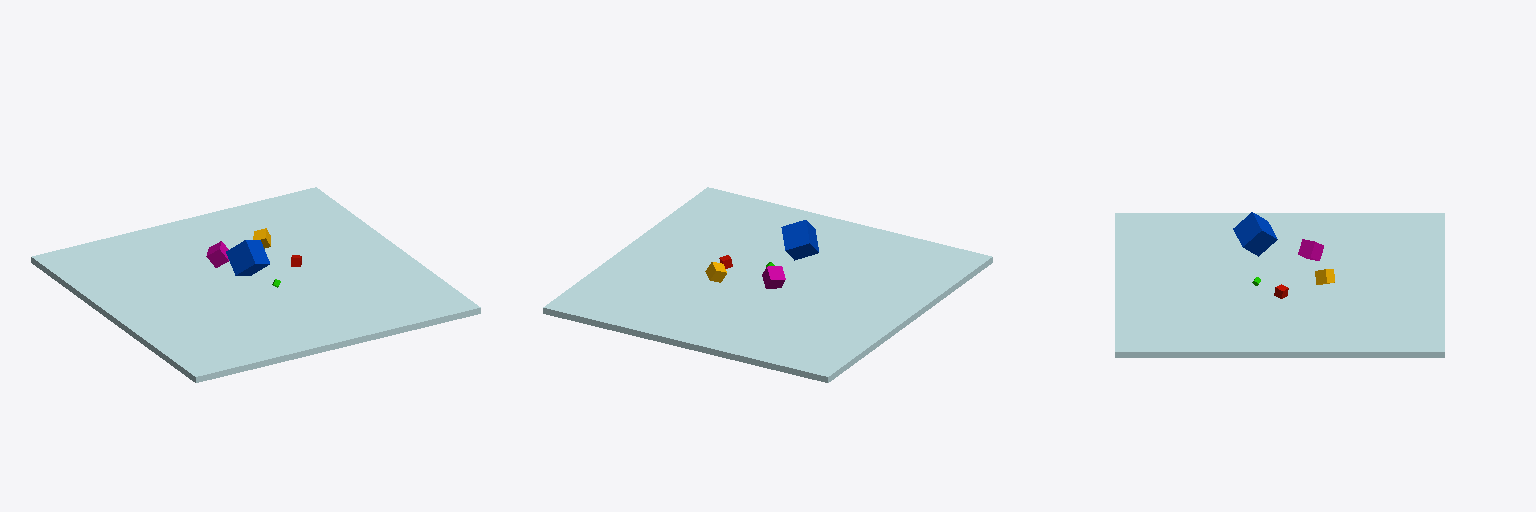
File: lights.obj
The picture shows the model from 3 angles: view 1: azimuth 30°, elevation 25°; view 2: azimuth 150°, elevation 25°; view 3: azimuth 270°, elevation 25°; orthographic projection.
Parts seen in each view (by area): view 1: Cube, Cube.001; view 2: Cube, Cube.001; view 3: Cube, Cube.001.
Part boxes in pixels (bbox=[...]): Cube: bbox=[31, 187, 480, 382]; Cube.001: bbox=[226, 240, 269, 275]; Cube: bbox=[543, 187, 992, 382]; Cube.001: bbox=[781, 220, 818, 260]; Cube: bbox=[1115, 213, 1444, 357]; Cube.001: bbox=[1233, 212, 1277, 256].
Size of the model in its own units: 48.04 by 10.41 by 48.04.